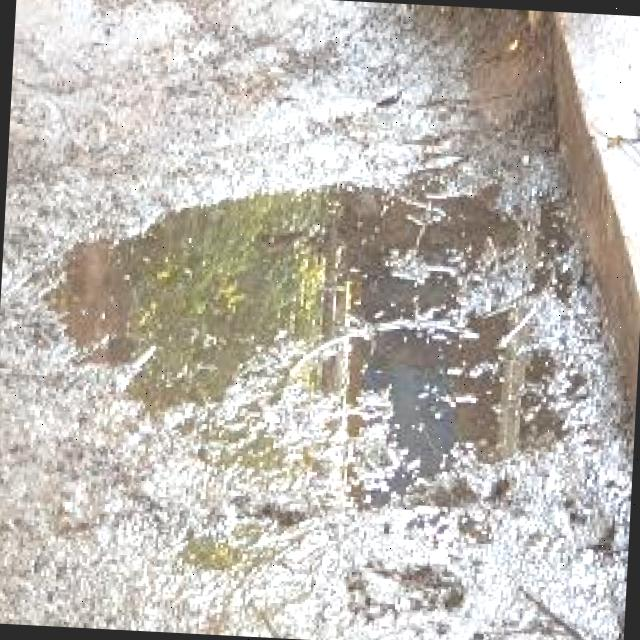stagnation: (38, 155, 592, 524)
